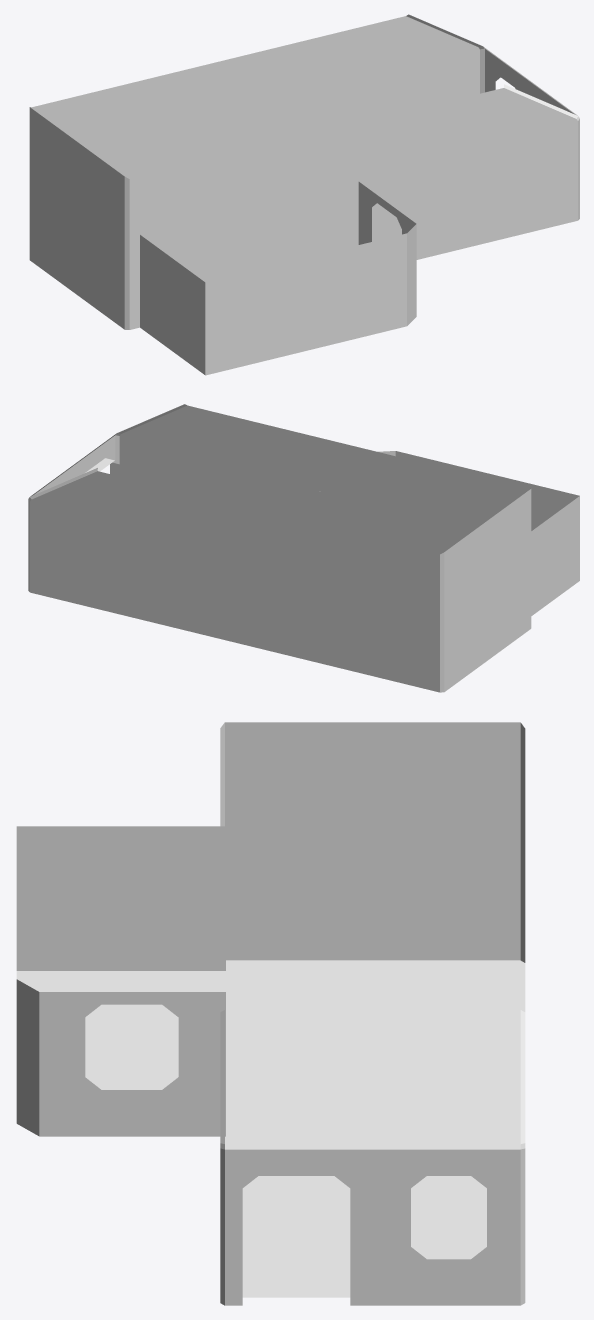
Rendered from Bld_C_low_L5_C.fbx.
3 views of the same model, one above another, from view 1: azimuth 30°, elevation 25°; view 2: azimuth 150°, elevation 25°; view 3: azimuth 270°, elevation 25° (orthographic). The views are drawn at different scales.
Visible parts, largest first — view 1: Bld_C_low_L5_C_LOD0; view 2: Bld_C_low_L5_C_LOD0; view 3: Bld_C_low_L5_C_LOD0.
Boxes of the visible parts, x1,y1,x2,y2 form: Bld_C_low_L5_C_LOD0: (29,14,579,375); Bld_C_low_L5_C_LOD0: (28,404,579,692); Bld_C_low_L5_C_LOD0: (16,722,525,1305).
Size of what is drawn, in the model's own units: 2107 by 750 by 1447.
Materials: 1 (1 with a texture image).
